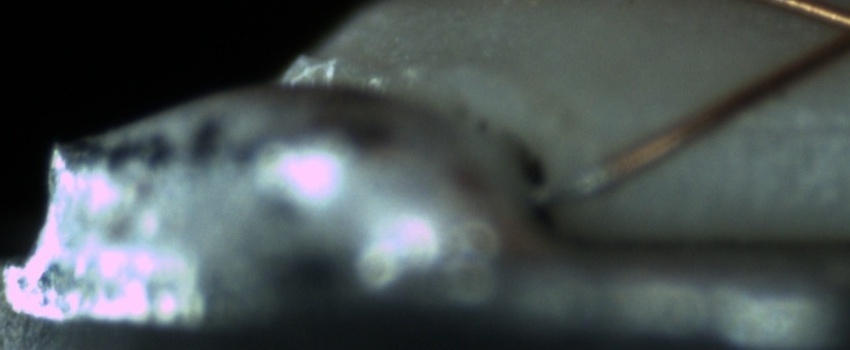DL: (728, 95, 850, 158)
TS: (535, 158, 620, 209)
